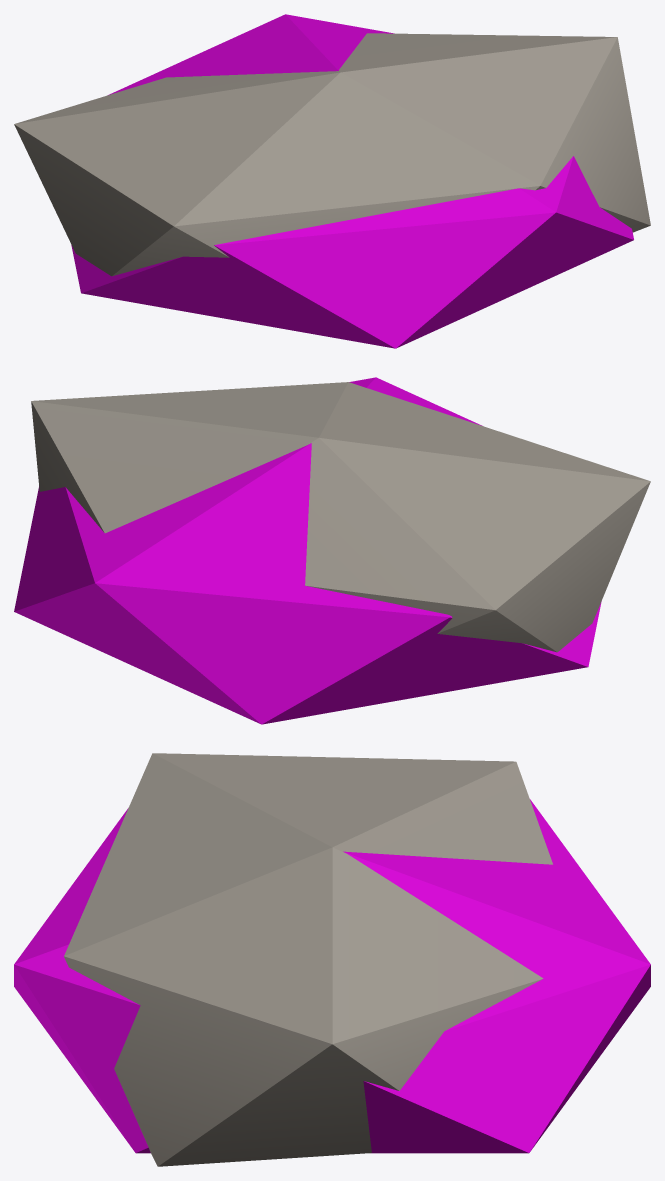
The model's file is rock_b.glb.
The picture shows the model from 3 angles, top to bottom: view 1: azimuth 30°, elevation 25°; view 2: azimuth 150°, elevation 25°; view 3: azimuth 270°, elevation 25°; orthographic projection. The views are drawn at different scales.
Parts seen in each view (by area): view 1: rock_b, COL_rock_b; view 2: rock_b, COL_rock_b; view 3: rock_b, COL_rock_b.
Boxes of the visible parts, bbox=[...] form: rock_b: bbox=[14, 33, 650, 276]; COL_rock_b: bbox=[71, 14, 633, 348]; rock_b: bbox=[31, 382, 650, 652]; COL_rock_b: bbox=[14, 377, 601, 724]; rock_b: bbox=[64, 753, 552, 1166]; COL_rock_b: bbox=[14, 799, 650, 1153].
Size of the model in its own units: 2.72 by 1.08 by 2.38.
